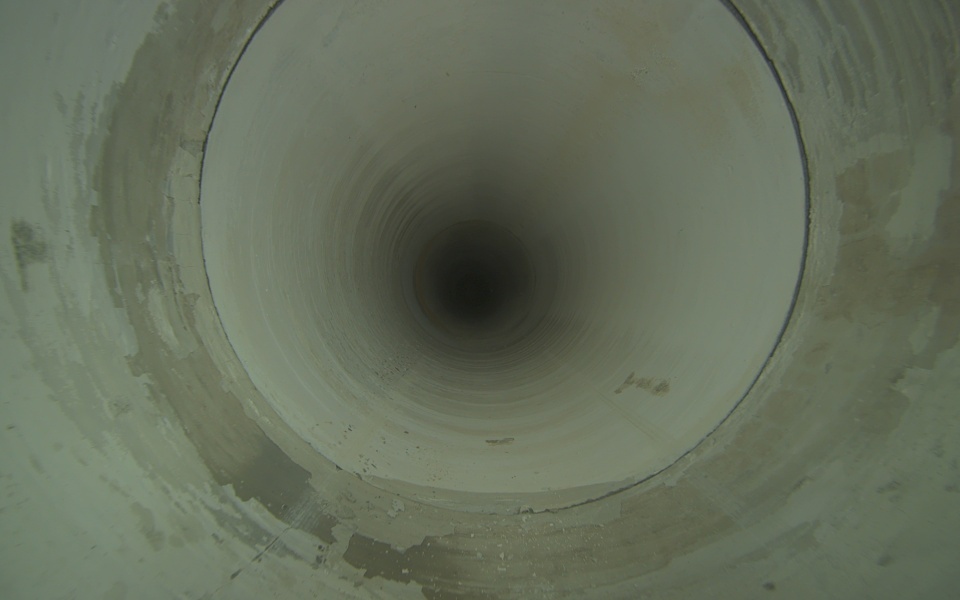circle1: (192, 0, 812, 522)
circle2: (459, 275, 490, 306)
